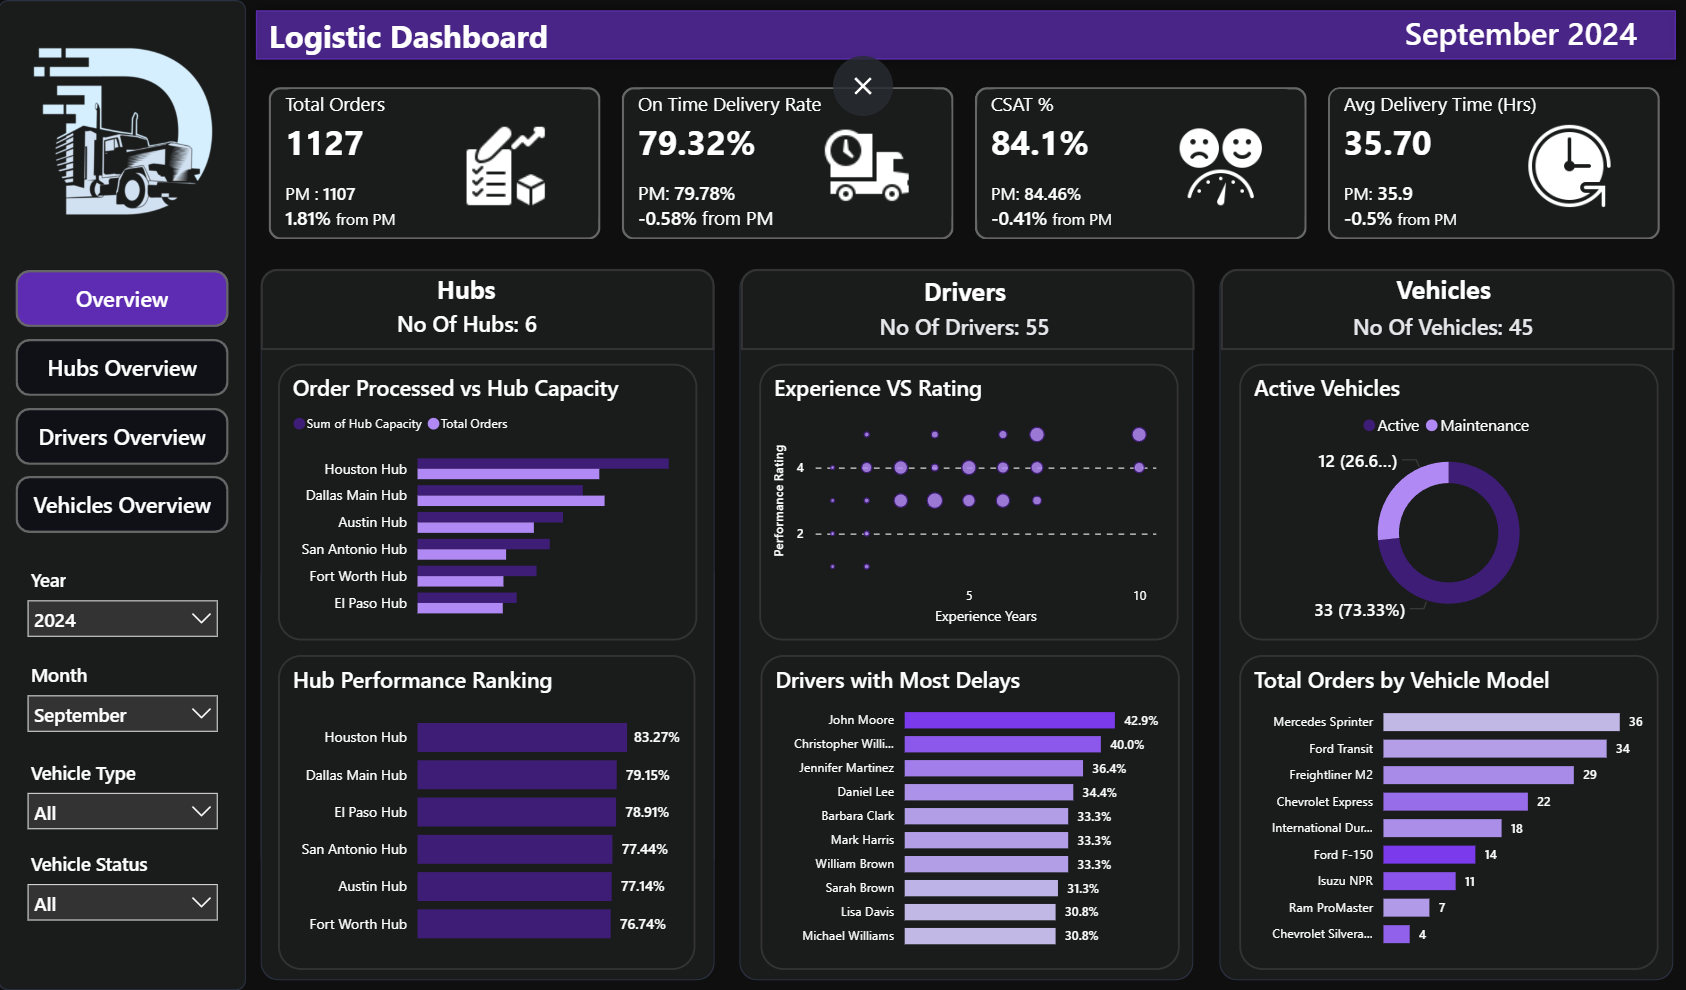

What the dashboard file says about the page in this screenshot:
{"tool":"powerbi","page":{"name":"Overview","canvas":[1450,850],"ordinal":0},"visuals":[{"type":"shape","box":[212.9,0,1237.1,60],"z":0},{"type":"shape","box":[0,0,212.9,850.3],"z":1000},{"type":"textbox","box":[227.4,7.2,463.5,44.9],"z":2000},{"type":"cardVisual","fields":{"Data":["Orders.Total Orders","Orders.On Time Delivery Rate","Orders.CSAT %","Orders.Avg Delivery Time (Hrs)"]},"box":[227.6,64.6,1204.2,146.9],"z":3000},{"type":"slicer","fields":{"Values":["Date Table.Year"]},"box":[15,481.7,183.3,68.3],"z":4000},{"type":"slicer","fields":{"Values":["Date Table.Month"]},"box":[15,563.3,183.3,70],"z":5000},{"type":"shape","box":[225.1,231.4,390,610],"z":6000},{"type":"shape","box":[225,230.6,390,70],"z":7000},{"type":"textbox","box":[350.4,229.1,104.4,48.9],"z":8000},{"type":"cardVisual","fields":{"Data":["Hubs.No of Hubs"]},"box":[286.4,261.1,232.5,30.3],"z":9000},{"type":"clusteredBarChart","title":"Order Processed vs Hub Capacity","fields":{"Category":["Hubs.HubName"],"Y":["Sum(Hubs.Hub Capacity)","Orders.Total Orders"]},"box":[240.5,311.9,360,237.6],"z":10000},{"type":"barChart","title":"Hub Performance Ranking","fields":{"Category":["Hubs.HubName"],"Y":["Orders.On Time Delivery Rate"]},"box":[240,562.9,358.3,270],"z":11000},{"type":"shape","box":[636.9,231.4,390,610],"z":12000},{"type":"shape","box":[637.2,230.6,390,70],"z":13000},{"type":"shape","box":[1048.8,231.4,390,610],"z":14000},{"type":"shape","box":[1049.4,230.6,390,70],"z":15000},{"type":"cardVisual","fields":{"Data":["Drivers.No of Drivers"]},"box":[714.2,264.5,232.5,30.3],"z":16000},{"type":"textbox","box":[778.2,230.8,104.4,48.9],"z":17000},{"type":"scatterChart","title":" Experience VS Rating","fields":{"X":["Drivers.Experience Years"],"Y":["Drivers.Performance Rating"],"Size":["Sum(Drivers.Experience Years)1"]},"box":[653.3,311.9,360,237.5],"z":18000},{"type":"cardVisual","fields":{"Data":["Vehicles.Total Vehicles"]},"box":[1125.2,264.5,232.5,30.3],"z":19000},{"type":"textbox","box":[1189.2,229.1,104.4,48.9],"z":20000},{"type":"barChart","title":"Drivers with Most Delays","fields":{"Category":["Drivers.DriverName"],"Y":["Orders.Delayed Delivery Rate"]},"box":[655,562.9,360,270],"z":21000},{"type":"donutChart","title":"Active Vehicles","fields":{"Category":["Vehicles.Vehicle Status"],"Y":["CountNonNull(Vehicles.Vehicle ID)"]},"box":[1066.1,311.9,360,237.6],"z":22000},{"type":"barChart","fields":{"Category":["Vehicles.Vehicle Model"],"Y":["Orders.Total Orders"]},"box":[1066.1,562.9,360,270],"z":23000},{"type":"cardVisual","fields":{"Data":["Orders.Year Month Title"]},"box":[1189.3,1.4,237.6,50.7],"z":24000},{"type":"pageNavigator","box":[15,231.7,183.3,228.3],"z":25000},{"type":"slicer","fields":{"Values":["Orders.Vehicle Type"]},"box":[15,646.7,183.3,65],"z":26000},{"type":"slicer","fields":{"Values":["Vehicles.Vehicle Status"]},"box":[15,725,183.3,68.3],"z":27000},{"type":"image","box":[15,13.3,188.3,211.7],"z":28000},{"type":"image","box":[691,104.3,111.5,76.8],"z":29000},{"type":"image","box":[993.7,104.3,111.5,76.8],"z":30000},{"type":"image","box":[1293.5,104.3,111.5,76.8],"z":31000},{"type":"image","box":[379.5,104.3,111.5,76.8],"z":32000}]}

Visuals, with their boxes on the page's 1450x850 design canvas (x1, y1, x2, y2). These are canvas units, not pixel positions in the 1686x990 screenshot, which may show the page scaled, cropped or inside an application window:
shape: bbox(213, 0, 1450, 60)
shape: bbox(0, 0, 213, 850)
textbox: bbox(227, 7, 691, 52)
cardVisual - Orders.Total Orders x Orders.On Time Delivery Rate: bbox(228, 65, 1432, 212)
slicer - Date Table.Year: bbox(15, 482, 198, 550)
slicer - Date Table.Month: bbox(15, 563, 198, 633)
shape: bbox(225, 231, 615, 841)
shape: bbox(225, 231, 615, 301)
textbox: bbox(350, 229, 455, 278)
cardVisual - Hubs.No of Hubs: bbox(286, 261, 519, 291)
"Order Processed vs Hub Capacity" clusteredBarChart: bbox(240, 312, 600, 550)
"Hub Performance Ranking" barChart: bbox(240, 563, 598, 833)
shape: bbox(637, 231, 1027, 841)
shape: bbox(637, 231, 1027, 301)
shape: bbox(1049, 231, 1439, 841)
shape: bbox(1049, 231, 1439, 301)
cardVisual - Drivers.No of Drivers: bbox(714, 264, 947, 295)
textbox: bbox(778, 231, 883, 280)
" Experience VS Rating" scatterChart: bbox(653, 312, 1013, 549)
cardVisual - Vehicles.Total Vehicles: bbox(1125, 264, 1358, 295)
textbox: bbox(1189, 229, 1294, 278)
"Drivers with Most Delays" barChart: bbox(655, 563, 1015, 833)
"Active Vehicles" donutChart: bbox(1066, 312, 1426, 550)
barChart - Vehicles.Vehicle Model x Orders.Total Orders: bbox(1066, 563, 1426, 833)
cardVisual - Orders.Year Month Title: bbox(1189, 1, 1427, 52)
pageNavigator: bbox(15, 232, 198, 460)
slicer - Orders.Vehicle Type: bbox(15, 647, 198, 712)
slicer - Vehicles.Vehicle Status: bbox(15, 725, 198, 793)
image: bbox(15, 13, 203, 225)
image: bbox(691, 104, 802, 181)
image: bbox(994, 104, 1105, 181)
image: bbox(1294, 104, 1405, 181)
image: bbox(380, 104, 491, 181)
